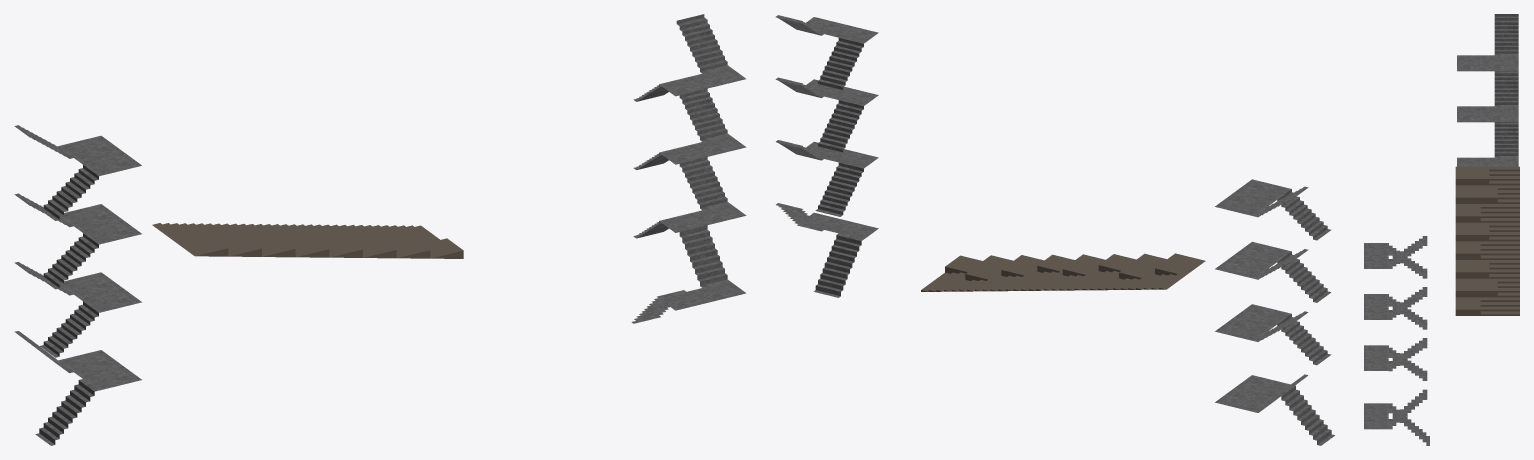
Rendered from Stairs.glb.
3 views of the same model, side by side, from view 1: azimuth 30°, elevation 25°; view 2: azimuth 150°, elevation 25°; view 3: azimuth 270°, elevation 25° (orthographic). The views are drawn at different scales.
Parts seen in each view (by area): view 1: StairsMiddle, StairsBackFirstFloorBetween, StairsBackFourthFloorBetween, StairsBackThirdFloorBetween, StairsBackSecondFloorBetween, StairsFrontFirstFloorOut, StairsFrontFourthFloorOut, StairsBackFirstFloorEntry, StairsFrontSecondFloorOut, StairsFrontThirdFloorOut, StairsBackSecondFloorEntry, StairsBackThirdFloorEntry (+5 smaller); view 2: StairsMiddle, StairsFrontFirstFloorEntry, StairsBackSecondFloorBetween, StairsBackFourthFloorBetween, StairsBackThirdFloorBetween, StairsBackFirstFloorBetween, StairsFrontThirdFloorEntry, StairsFrontFourthFloorEntry, StairsFrontSecondFloorEntry, StairsBackFirstFloorEntry, StairsBackFourthFloorEntry, StairsBackThirdFloorEntry (+5 smaller); view 3: StairsMiddle, StairsBackThirdFloorBetween, StairsBackFourthFloorBetween, StairsBackFourthFloorOut, StairsBackSecondFloorOut, StairsBackThirdFloorOut, StairsFrontFirstFloorBetween, StairsFrontSecondFloorBetween, StairsFrontThirdFloorBetween, StairsFrontFourthFloorBetween, StairsBackSecondFloorBetween, StairsFrontFirstFloorOut (+7 smaller).
Boxes of the visible parts, x1,y1,x2,y2 form: StairsMiddle: (152,223,463,258); StairsBackFirstFloorBetween: (58,350,141,390); StairsBackFourthFloorBetween: (58,135,141,176); StairsBackThirdFloorBetween: (60,204,141,244); StairsBackSecondFloorBetween: (60,272,141,312); StairsFrontFirstFloorOut: (679,225,729,287); StairsFrontFourthFloorOut: (676,14,729,73); StairsBackFirstFloorEntry: (35,379,98,445); StairsFrontSecondFloorOut: (679,157,729,210); StairsFrontThirdFloorOut: (679,88,729,141); StairsBackSecondFloorEntry: (40,301,98,357); StairsBackThirdFloorEntry: (40,233,98,289); StairsMiddle: (921,253,1205,291); StairsFrontFirstFloorEntry: (813,233,863,297); StairsBackSecondFloorBetween: (1215,304,1291,341); StairsBackFourthFloorBetween: (1215,179,1291,216); StairsBackThirdFloorBetween: (1215,241,1291,278); StairsBackFirstFloorBetween: (1215,375,1290,411); StairsFrontThirdFloorEntry: (815,100,863,154); StairsFrontFourthFloorEntry: (815,38,863,92); StairsFrontSecondFloorEntry: (815,162,863,216); StairsBackFirstFloorEntry: (1281,385,1334,445); StairsBackFourthFloorEntry: (1277,189,1330,240); StairsBackThirdFloorEntry: (1277,251,1330,302); StairsMiddle: (1455,166,1519,315); StairsBackThirdFloorBetween: (1457,106,1518,122); StairsBackFourthFloorBetween: (1457,55,1518,71); StairsBackFourthFloorOut: (1494,14,1518,55); StairsBackSecondFloorOut: (1494,122,1518,157); StairsBackThirdFloorOut: (1494,71,1518,106); StairsFrontFirstFloorBetween: (1364,403,1388,429); StairsFrontSecondFloorBetween: (1364,345,1388,370); StairsFrontThirdFloorBetween: (1364,294,1388,319); StairsFrontFourthFloorBetween: (1364,243,1388,268); StairsBackSecondFloorBetween: (1457,157,1518,166); StairsFrontFirstFloorOut: (1388,389,1427,429).
Bounding box in the file's own units: 32.02 × 14.11 × 9.13.
2 materials, 1 textured.
